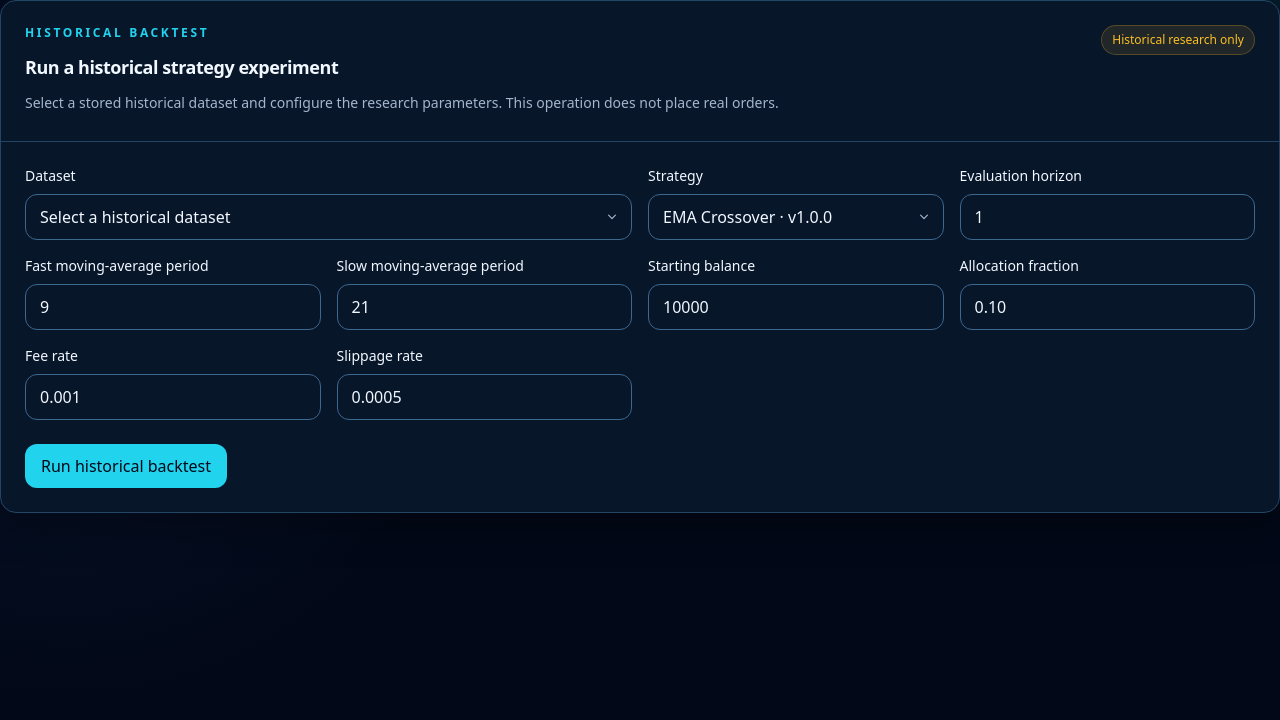
Scenario: ExperimentRunForm › shows a safe localized message when execution fails
Select "BTC historical dataset · BTC/USDT · 1h" in the dropdown labelled "Dataset". click: (328, 217)
box: [25,194,632,240]
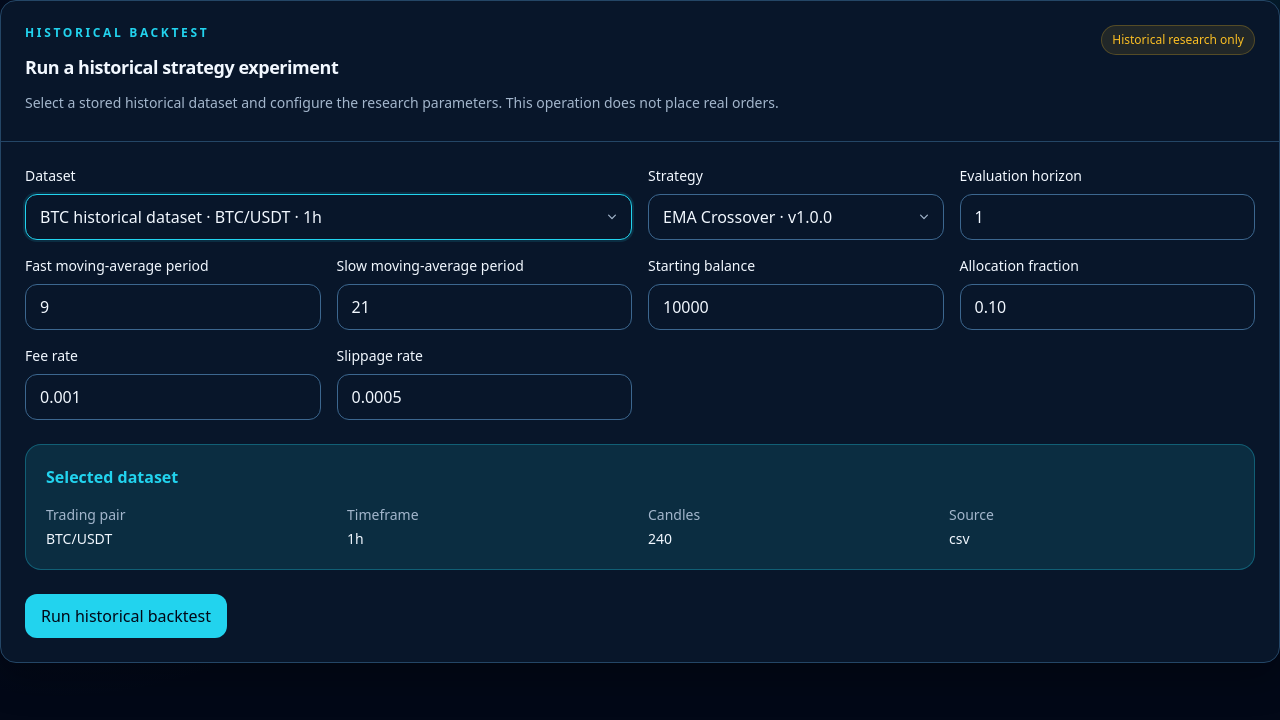
Click the button "Run historical backtest". click: (126, 616)
box: [25,594,227,638]
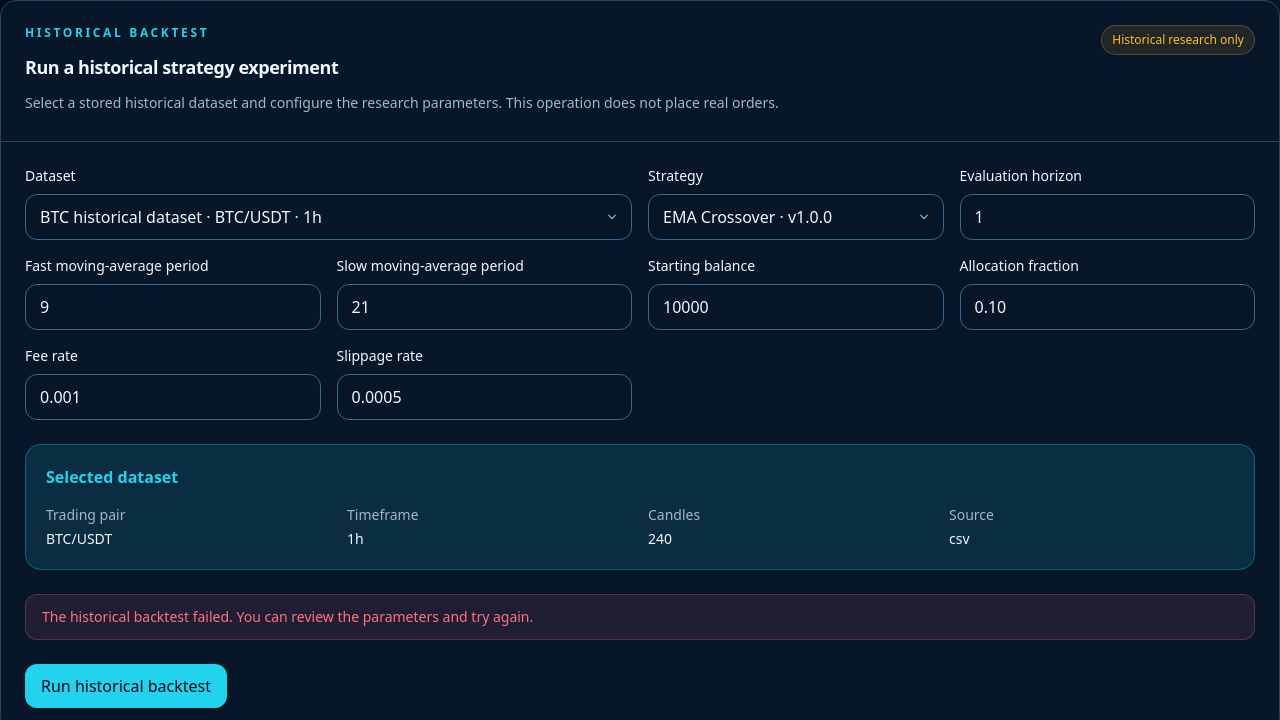
expect the message reads "The historical backtest failed. You can review the parameters and try again.": met, box [42,607,533,626]
